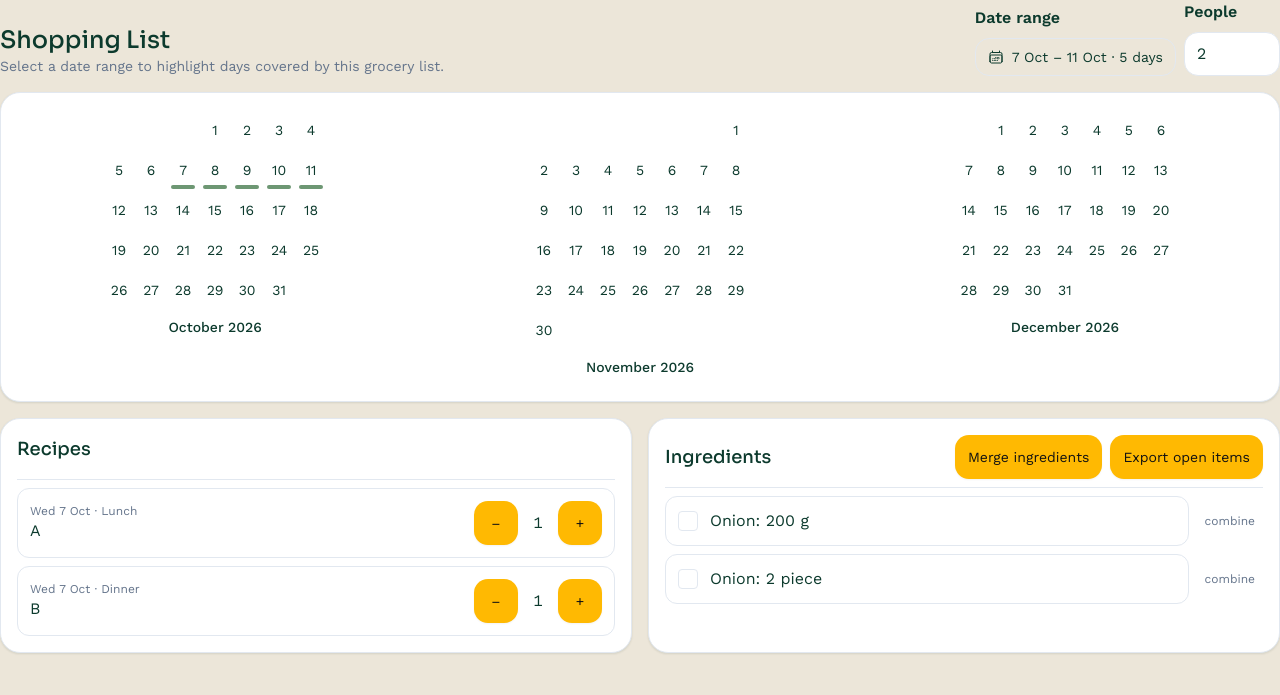
combine opens that ingredient on the field that would unify it
Step 1. Click the 1st button "combine" → (1230, 521), box [1197,509,1263,533]
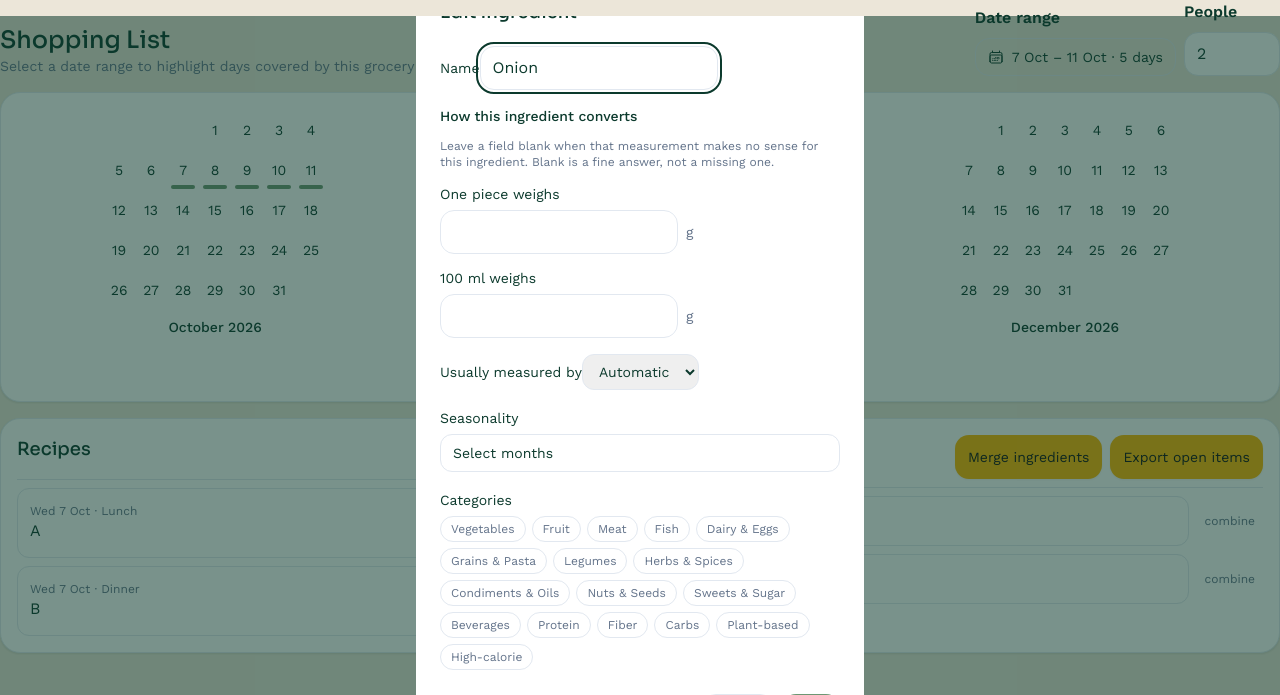
Expected: the text "How this ingredient converts" is shown, [440,106,637,126]
